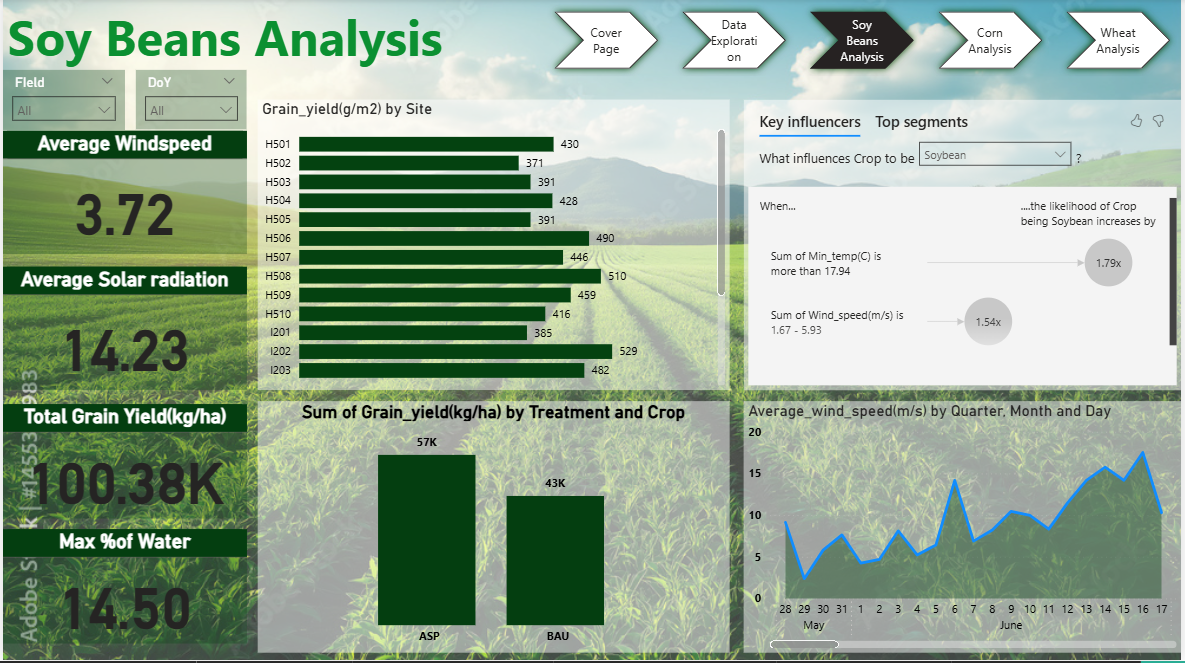

The page's visual inventory and layout, read from the dashboard file:
{"tool":"powerbi","page":{"name":"Soy Beans Analysis","canvas":[1280,720],"ordinal":2},"visuals":[{"type":"textbox","box":[0,0,511.5,90.7],"z":0},{"type":"card","title":"Total Grain Yield(kg/ha)","fields":{"Values":["Sum(h5_i2_2019-2022_hand_harvest.Grain_yield(kg/ha))"]},"box":[0,441.3,264.8,123.9],"z":1000},{"type":"card","title":"Max %of Water","fields":{"Values":["Max(h5_i2_2019-2022_hand_harvest.Percent_H2O)"]},"box":[0,577,264.8,123.9],"z":2000},{"type":"card","title":"Average Windspeed","fields":{"Values":["Avg(h5-i2_2016-2021_daily-weather.Wind_speed(m/s))"]},"box":[0,144.3,264.8,134.1],"z":3000},{"type":"card","title":"Average Solar radiation","fields":{"Values":["Avg(h5-i2_2016-2021_daily-weather.Solar_Radiation(MJ/m2/d))"]},"box":[0,291.9,264.8,134.1],"z":4000},{"type":"lineStackedColumnComboChart","fields":{"Category":["h5_i2_2019-2022_hand_harvest.Treatment"],"Y":["Sum(h5_i2_2019-2022_hand_harvest.Grain_yield(kg/ha))"],"Series":["h5_i2_2019-2022_hand_harvest.Crop"]},"box":[276.6,437.9,512.5,273.2],"z":5000},{"type":"keyDriversVisual","fields":{"Target":["h5-i2_2016-2021_daily-weather.Crop"],"ExplainBy":["Sum(h5-i2_2016-2021_daily-weather.Rain_(mm/d))","Sum(h5-i2_2016-2021_daily-weather.Wind_speed(m/s))","Sum(h5-i2_2016-2021_daily-weather.Solar_Radiation(MJ/m2/d))","Sum(h5-i2_2016-2021_daily-weather.Min_temp(C))"]},"box":[804.5,110.3,475.2,315.7],"z":6000},{"type":"slicer","fields":{"Values":["h5-i2_2016-2021_daily-weather.FIeld"]},"box":[0,77.3,132.3,65.4],"z":7000},{"type":"slicer","fields":{"Values":["h5_i2_2019-2022_hand_harvest.DoY"]},"box":[144.3,78.1,120.5,64.5],"z":8000},{"type":"clusteredBarChart","title":"Grain_yield(g/m2) by Site","fields":{"Category":["h5_i2_2019-2022_hand_harvest.Site"],"Y":["Sum(h5_i2_2019-2022_hand_harvest.Grain_yield(g/m2))"]},"box":[276.6,78.1,512.5,315.7],"z":9000},{"type":"lineChart","title":"Average_wind_speed(m/s) by Quarter, Month and Day","fields":{"Category":["MortonDailyAVG.date.Variation.Date Hierarchy.Month","MortonDailyAVG.date.Variation.Date Hierarchy.Day"],"Y":["Sum(MortonDailyAVG.Average_wind_speed(m/s))"]},"box":[804.5,437.9,475.2,273.2],"z":10000},{"type":"pageNavigator","box":[590.6,6.8,689.1,78.1],"z":11000}]}

Visuals, with their boxes in screenshot pixels (x1, y1, x2, y2), scaled from the page's 1280x720 canvas onto the 1185x663 screenshot:
textbox: <region>0, 0, 474, 84</region>
"Total Grain Yield(kg/ha)" card: <region>0, 406, 245, 520</region>
"Max %of Water" card: <region>0, 531, 245, 645</region>
"Average Windspeed" card: <region>0, 133, 245, 256</region>
"Average Solar radiation" card: <region>0, 269, 245, 392</region>
lineStackedColumnComboChart - h5_i2_2019-2022_hand_harvest.Treatment x Sum(h5_i2_2019-2022_hand_harvest.Grain_yield(kg/ha)): <region>256, 403, 731, 655</region>
keyDriversVisual - h5-i2_2016-2021_daily-weather.Crop x Sum(h5-i2_2016-2021_daily-weather.Rain_(mm/d)): <region>745, 102, 1184, 392</region>
slicer - h5-i2_2016-2021_daily-weather.FIeld: <region>0, 71, 122, 131</region>
slicer - h5_i2_2019-2022_hand_harvest.DoY: <region>134, 72, 245, 131</region>
"Grain_yield(g/m2) by Site" clusteredBarChart: <region>256, 72, 731, 363</region>
"Average_wind_speed(m/s) by Quarter, Month and Day" lineChart: <region>745, 403, 1184, 655</region>
pageNavigator: <region>547, 6, 1184, 78</region>
